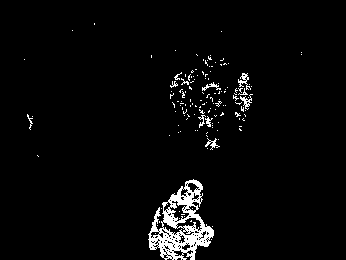person: (146, 178, 214, 260), (233, 71, 255, 133)
